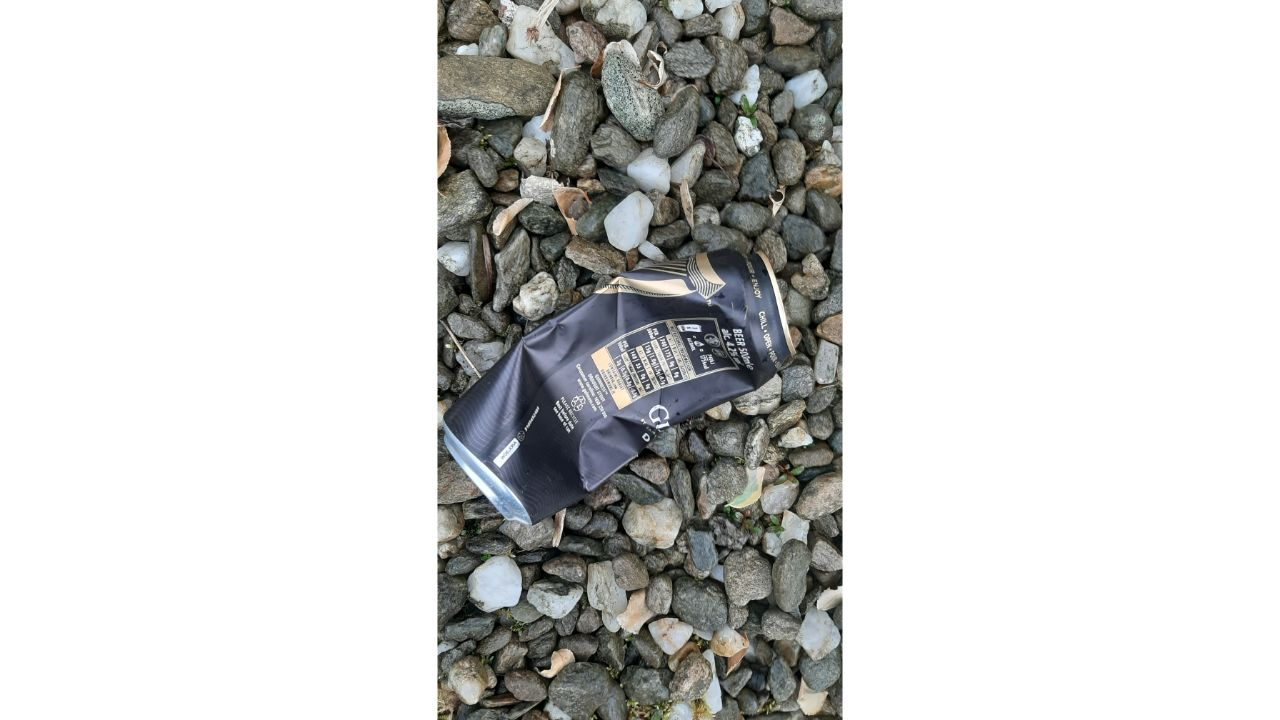Can: (442, 249, 798, 527)
